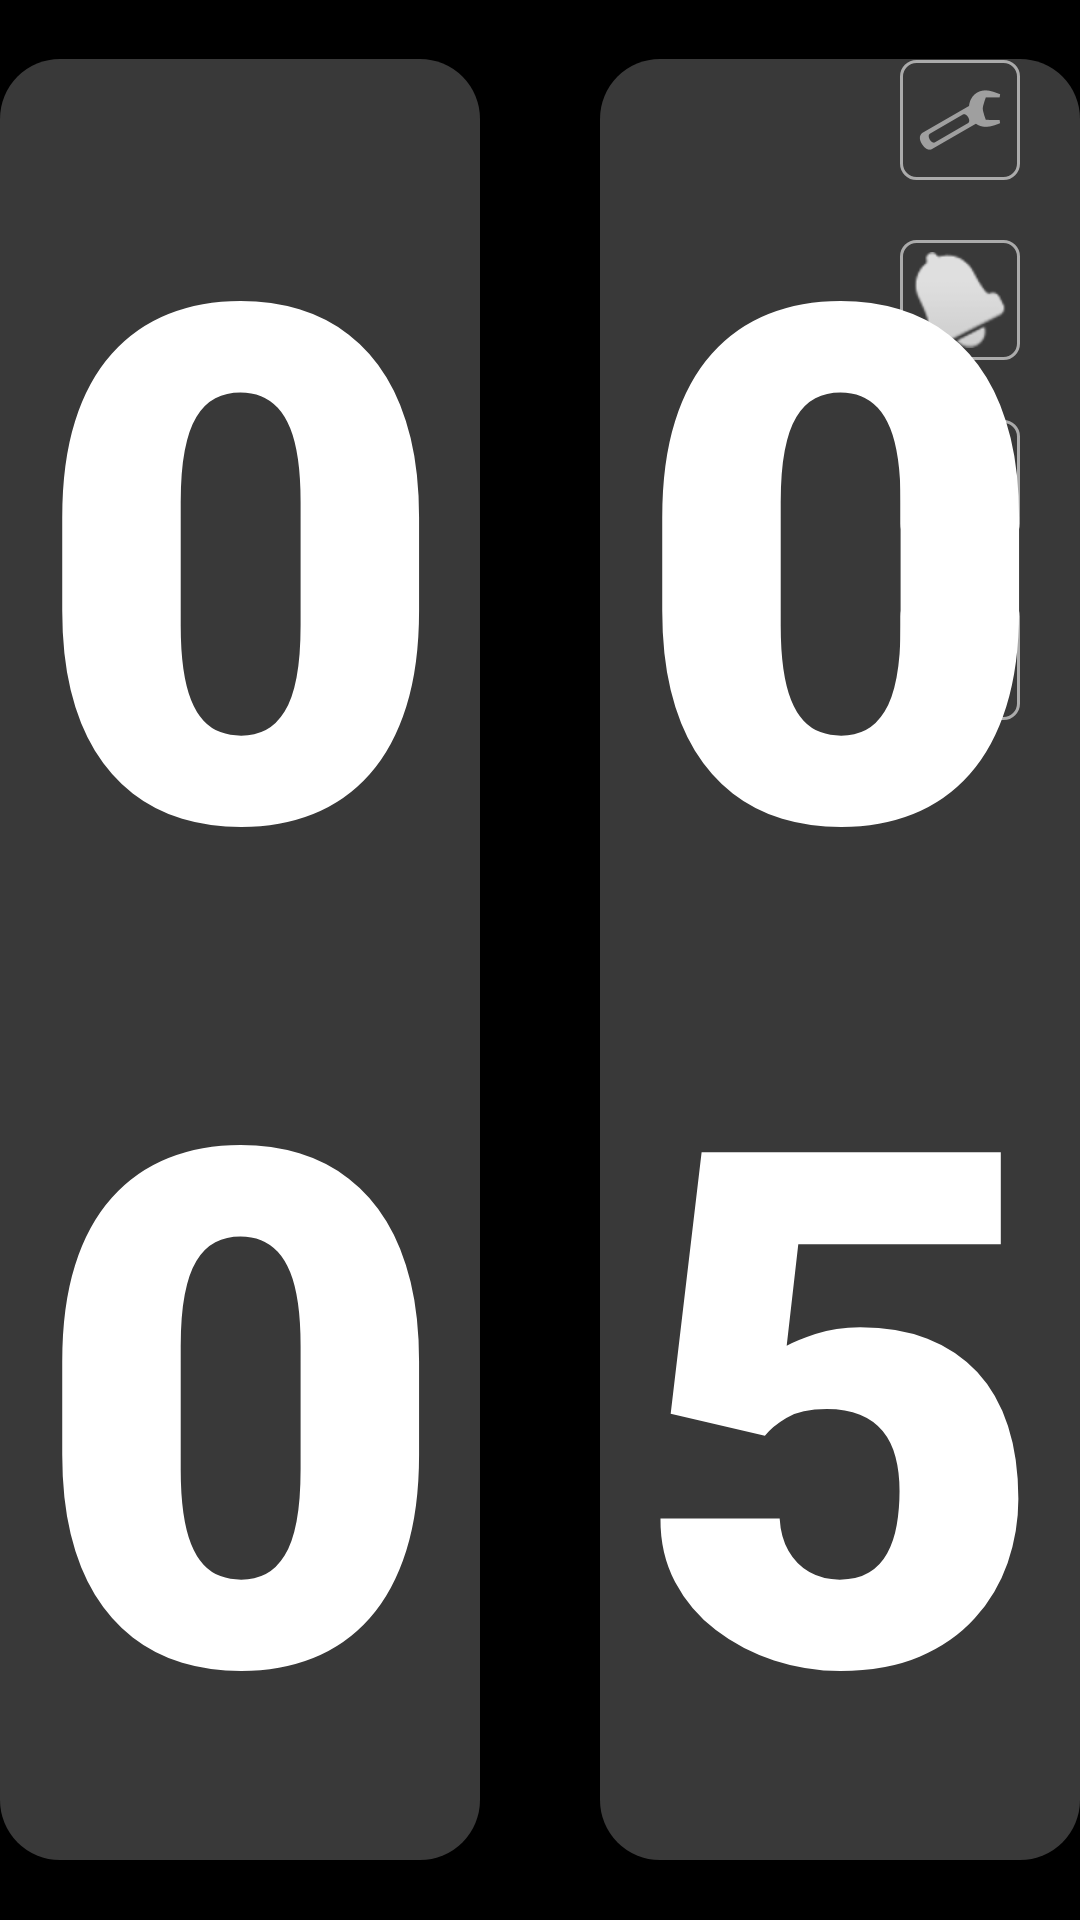

Icon click points for this 1080 × 1920 phone screenshot, format [x,y]:
manage: [960,120]
